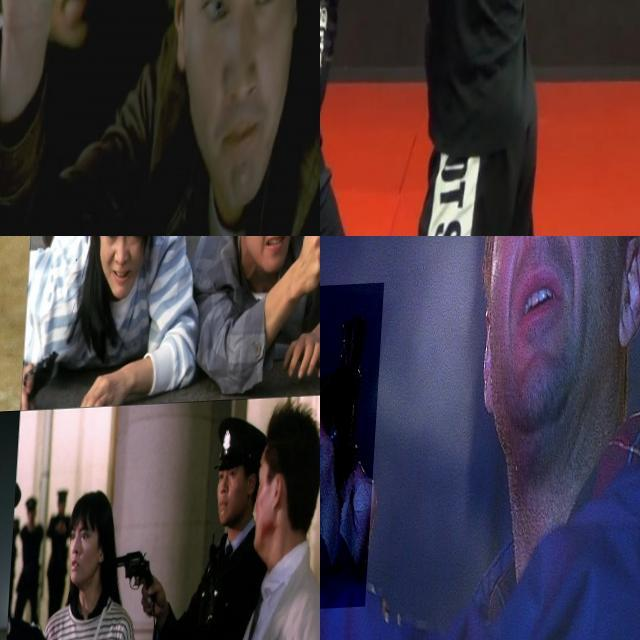-: (320, 0, 420, 43)
gun-knife-thesis - v11 Yolov5 augmented: (0, 0, 157, 185), (320, 286, 397, 615), (0, 236, 67, 358), (111, 543, 176, 633), (0, 525, 45, 640)
